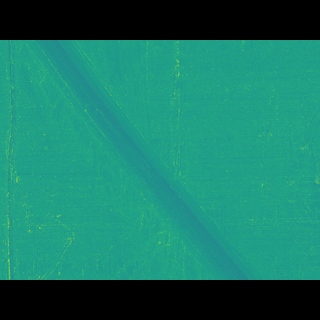Loch: (20, 69, 262, 250), (1, 69, 27, 250)
